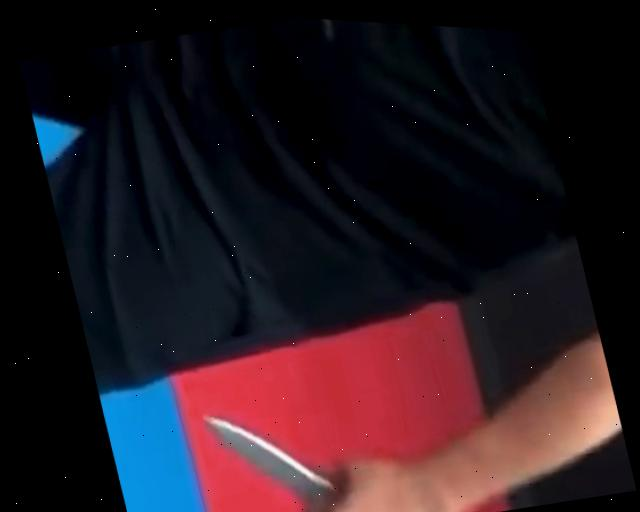pocket-knife: (195, 352, 425, 512)
